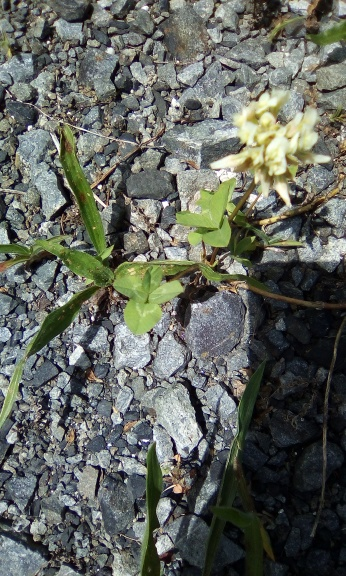4leaf: (111, 263, 184, 338)
